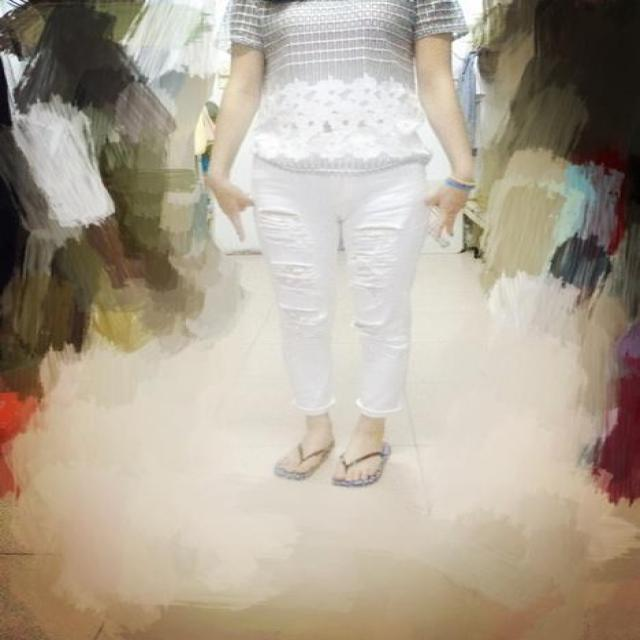short-sleeve-top: (188, 21, 472, 182)
trousers: (243, 188, 462, 416)
